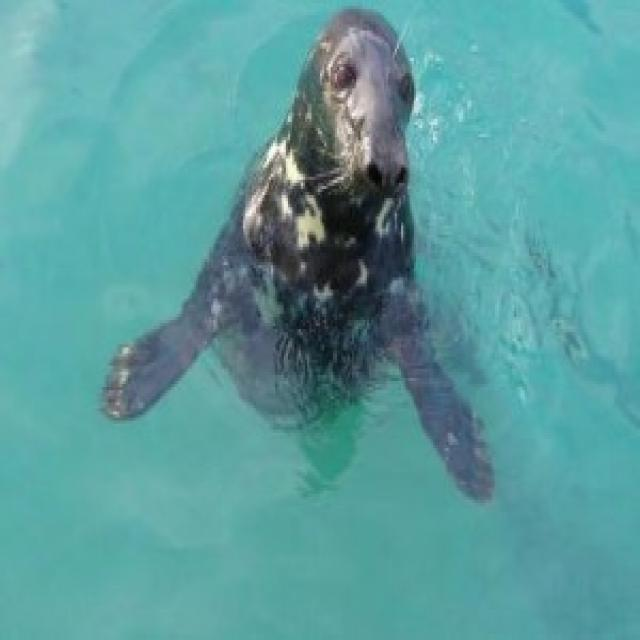Seal: (106, 13, 479, 535)
